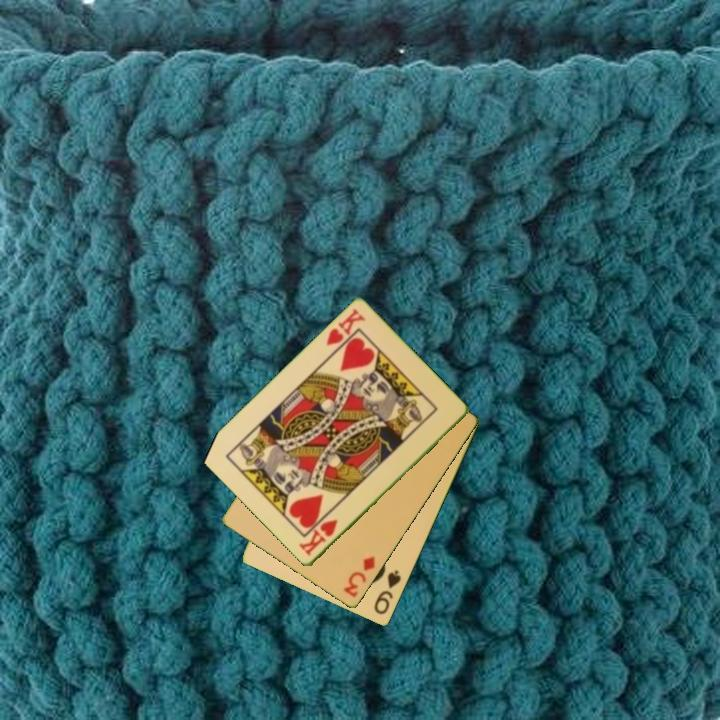3d: (340, 553, 378, 601)
9s: (370, 567, 404, 618)
Kh: (323, 305, 368, 349), (296, 516, 341, 559)
